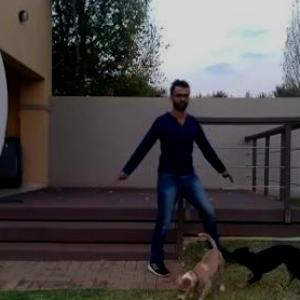land: (111, 95, 222, 277)
